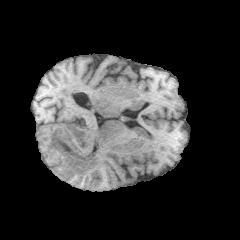glioma: (48, 128, 98, 174)
